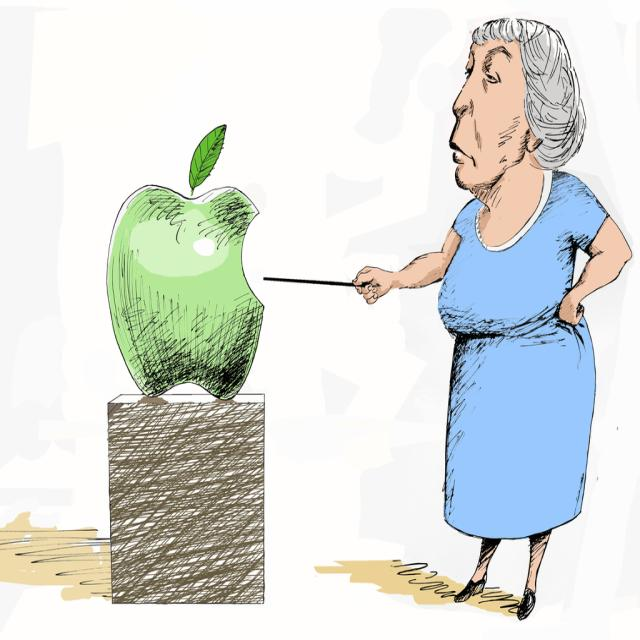Healty Apple: (112, 156, 266, 421)
